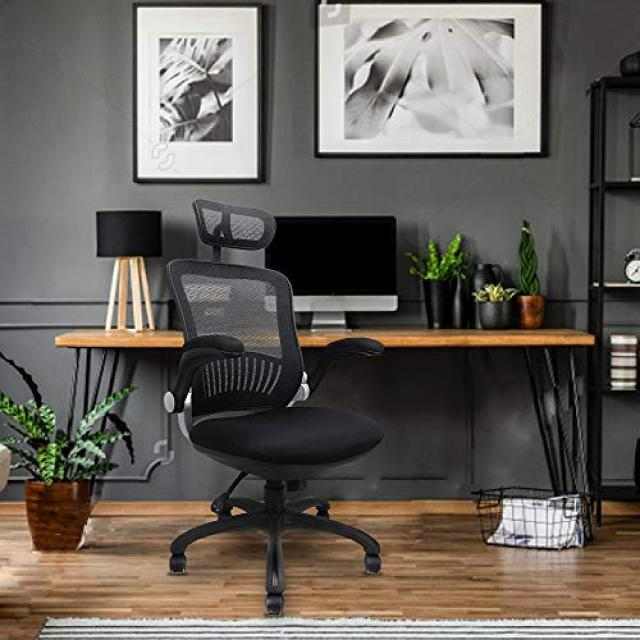chair: (164, 200, 384, 606)
